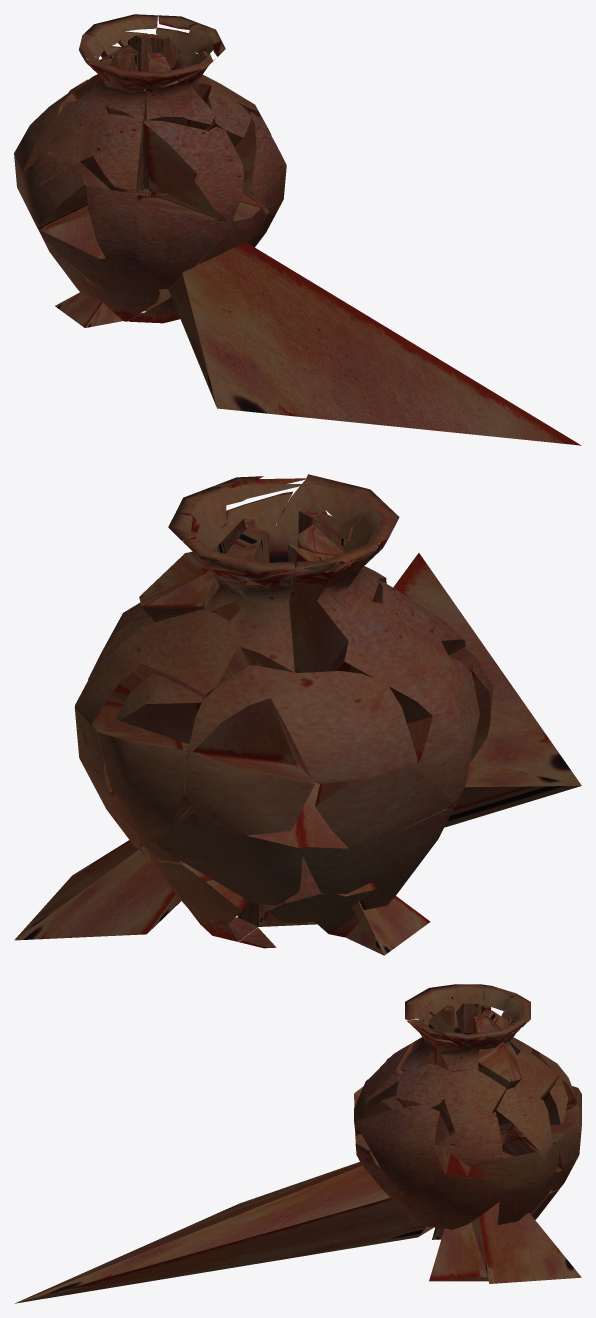
Rendered from vase1.2.fbx.
The picture shows the model from 3 angles, top to bottom: view 1: azimuth 30°, elevation 25°; view 2: azimuth 150°, elevation 25°; view 3: azimuth 270°, elevation 25°; orthographic projection. The views are drawn at different scales.
Visible parts, largest first — view 1: vase1.2_cell.003, vase1.2_cell.060, vase1.2_cell.027, vase1.2_cell.079, vase1.2_cell.080, vase1.2_cell.019, vase1.2_cell.023, vase1.2_cell.057, vase1.2_cell.081, vase1.2_cell.021, vase1.2_cell.037, vase1.2_cell.062 (+17 smaller); view 2: vase1.2_cell.003, vase1.2_cell.033, vase1.2_cell.080, vase1.2_cell.039, vase1.2_cell.007, vase1.2_cell.058, vase1.2_cell.013, vase1.2_cell.029, vase1.2_cell.008, vase1.2_cell.067, vase1.2_cell.076, vase1.2_cell.019 (+32 smaller); view 3: vase1.2_cell.003, vase1.2_cell.039, vase1.2_cell.004, vase1.2_cell.040, vase1.2_cell.072, vase1.2_cell, vase1.2_cell.052, vase1.2_cell.030, vase1.2_cell.037, vase1.2_cell.062, vase1.2_cell.064, vase1.2_cell.014 (+18 smaller).
Boxes of the visible parts, left/top/right/bottom form: vase1.2_cell.003: left=168, top=242, right=581, bottom=445; vase1.2_cell.060: left=132, top=196, right=227, bottom=288; vase1.2_cell.027: left=39, top=188, right=166, bottom=292; vase1.2_cell.079: left=143, top=120, right=236, bottom=224; vase1.2_cell.080: left=31, top=97, right=145, bottom=191; vase1.2_cell.019: left=23, top=150, right=110, bottom=229; vase1.2_cell.023: left=194, top=127, right=243, bottom=221; vase1.2_cell.057: left=86, top=185, right=143, bottom=258; vase1.2_cell.081: left=93, top=114, right=143, bottom=191; vase1.2_cell.021: left=151, top=190, right=266, bottom=264; vase1.2_cell.037: left=234, top=111, right=278, bottom=191; vase1.2_cell.062: left=202, top=85, right=250, bottom=146; vase1.2_cell.003: left=393, top=553, right=581, bottom=827; vase1.2_cell.033: left=269, top=671, right=417, bottom=783; vase1.2_cell.080: left=328, top=601, right=465, bottom=748; vase1.2_cell.039: left=14, top=840, right=180, bottom=940; vase1.2_cell.007: left=184, top=752, right=314, bottom=835; vase1.2_cell.058: left=157, top=804, right=302, bottom=905; vase1.2_cell.013: left=188, top=665, right=298, bottom=763; vase1.2_cell.029: left=112, top=609, right=250, bottom=699; vase1.2_cell.008: left=97, top=731, right=190, bottom=841; vase1.2_cell.067: left=315, top=764, right=452, bottom=849; vase1.2_cell.076: left=295, top=761, right=454, bottom=894; vase1.2_cell.019: left=407, top=652, right=479, bottom=805; vase1.2_cell.003: left=15, top=1162, right=426, bottom=1303; vase1.2_cell.039: left=472, top=1194, right=581, bottom=1283; vase1.2_cell.004: left=357, top=1121, right=449, bottom=1196; vase1.2_cell.040: left=433, top=1153, right=500, bottom=1229; vase1.2_cell.072: left=444, top=1069, right=505, bottom=1153; vase1.2_cell: left=429, top=1222, right=488, bottom=1281; vase1.2_cell.052: left=439, top=1112, right=502, bottom=1173; vase1.2_cell.030: left=489, top=1143, right=558, bottom=1193; vase1.2_cell.037: left=357, top=1105, right=451, bottom=1145; vase1.2_cell.062: left=395, top=1064, right=454, bottom=1132; vase1.2_cell.064: left=496, top=1087, right=552, bottom=1162; vase1.2_cell.014: left=362, top=1131, right=455, bottom=1228.
Bounding box in the file's own units: 21545 × 17850 × 41746.
